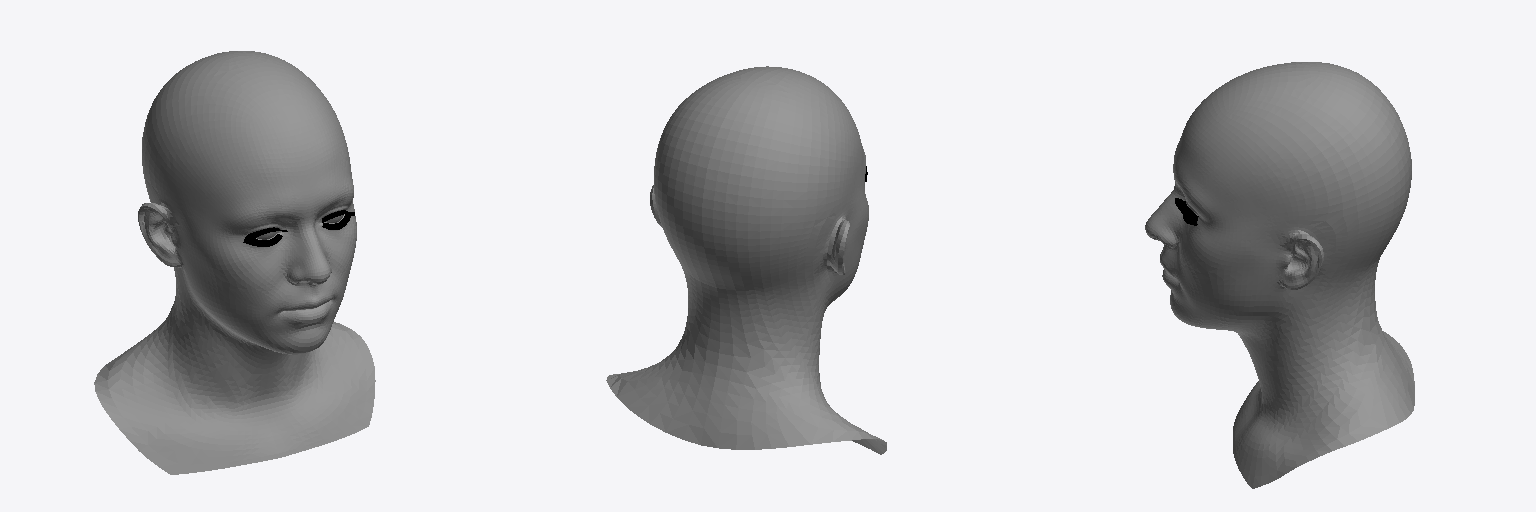
Rendered from identity011.obj.
3 renders of one model, left to right at view 1: azimuth 30°, elevation 25°; view 2: azimuth 150°, elevation 25°; view 3: azimuth 270°, elevation 25°, orthographic.
Bounding box in the file's own units: 24.93 × 33.49 × 22.13.